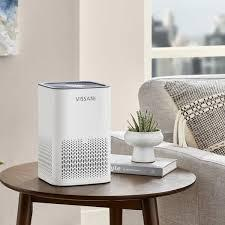Indoor Plant: (124, 111, 164, 162)
air purifier: (39, 83, 110, 184)
book: (111, 154, 177, 176)
table: (0, 160, 196, 225)
